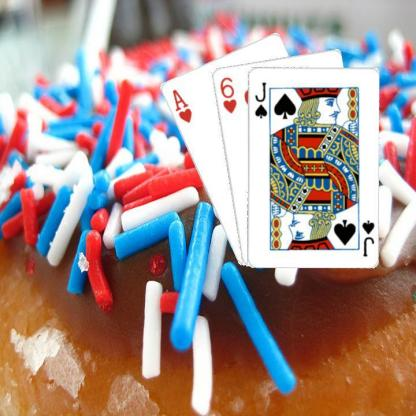6H: (216, 74, 237, 114)
AH: (169, 87, 193, 124)
JS: (252, 80, 268, 120), (359, 217, 375, 257)
